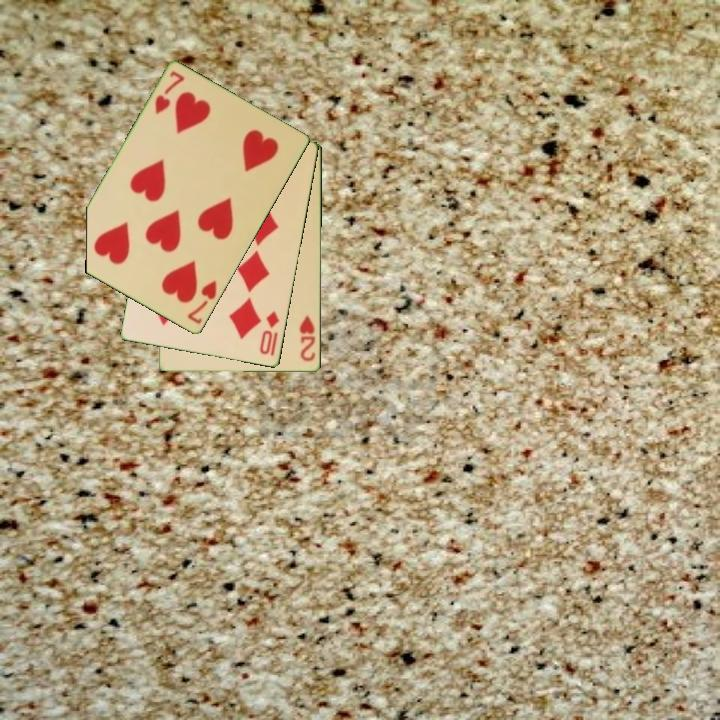10d: (256, 308, 282, 358)
2h: (297, 313, 318, 364)
7h: (151, 68, 188, 118), (184, 277, 220, 327)
